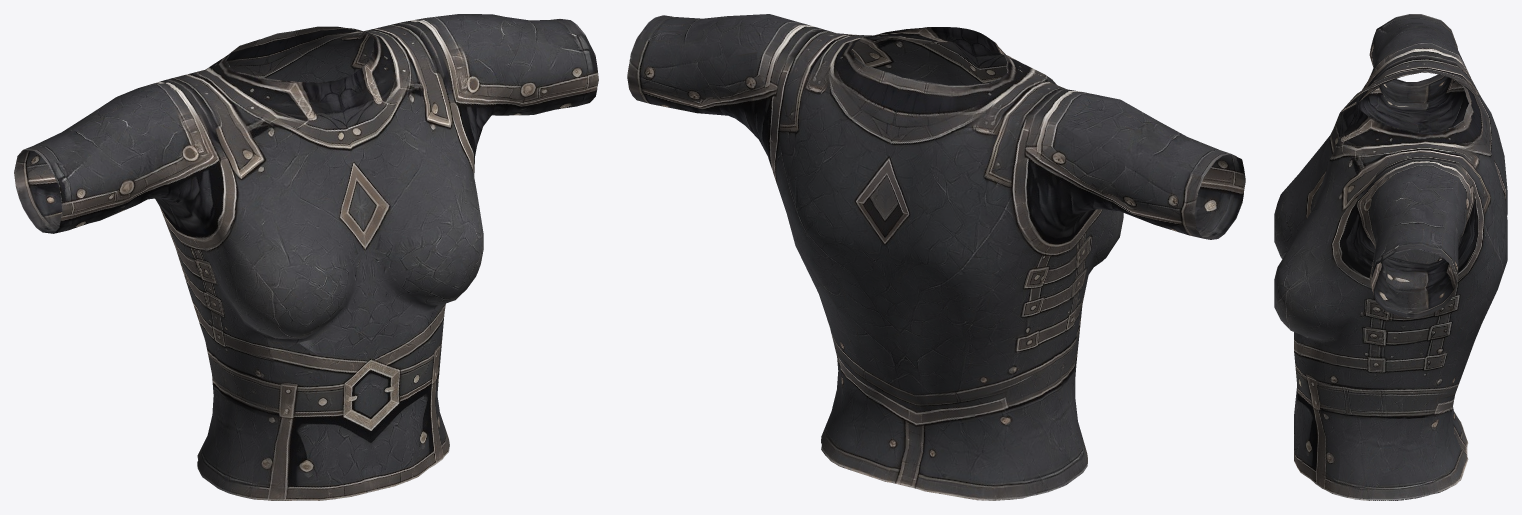
File: IronPlatebody.glb
3 renders of one model, left to right at view 1: azimuth 30°, elevation 25°; view 2: azimuth 150°, elevation 25°; view 3: azimuth 270°, elevation 25°, orthographic. The views are drawn at different scales.
Bounding box in the file's own units: 2 × 1.38 × 0.837.
Materials: 1 (1 with a texture image).
